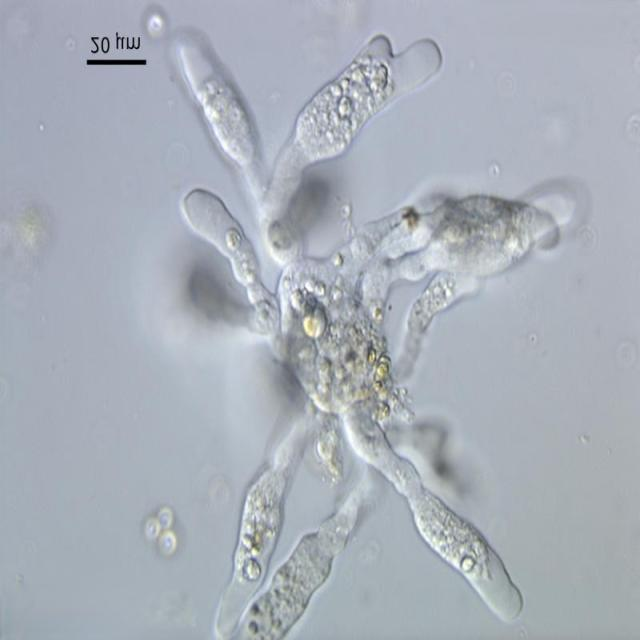Amoeba: (162, 27, 575, 640)
